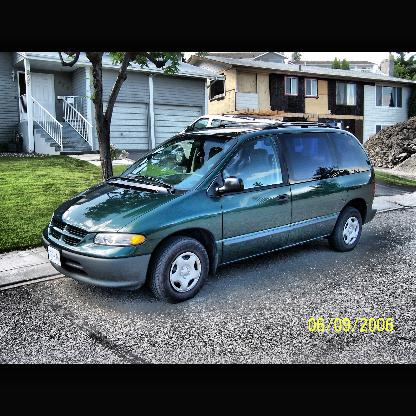Dodge Caravan Minivan 1997: (41, 125, 378, 307)
